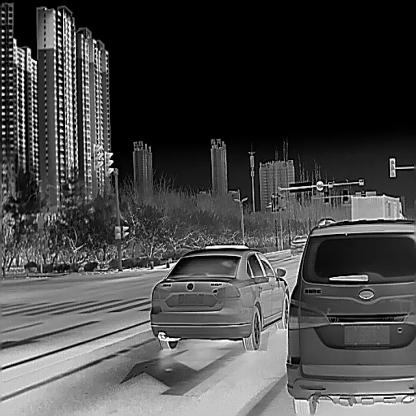car: (286, 216, 416, 415), (149, 243, 289, 350), (289, 234, 308, 255)
truck: (350, 194, 406, 218)
